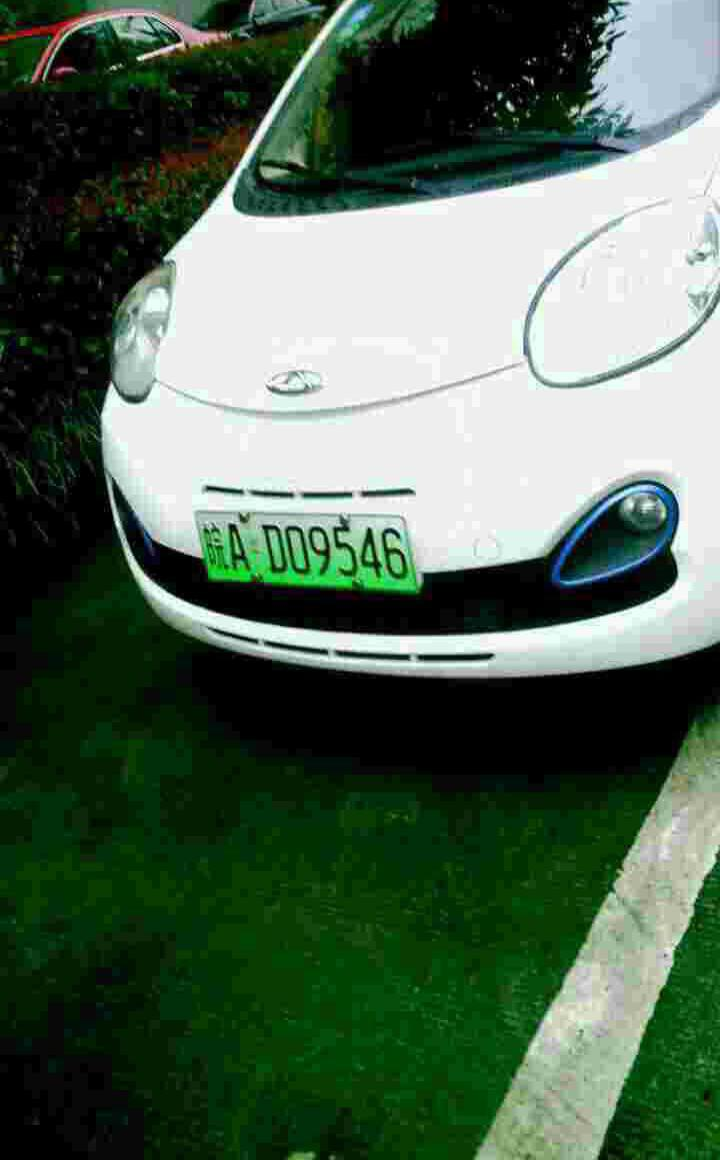car: (196, 501, 427, 592)
